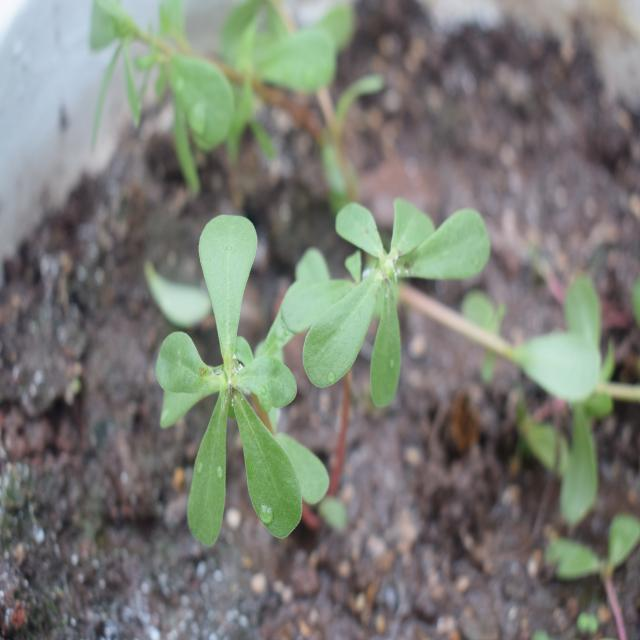purslane: (139, 166, 477, 525)
